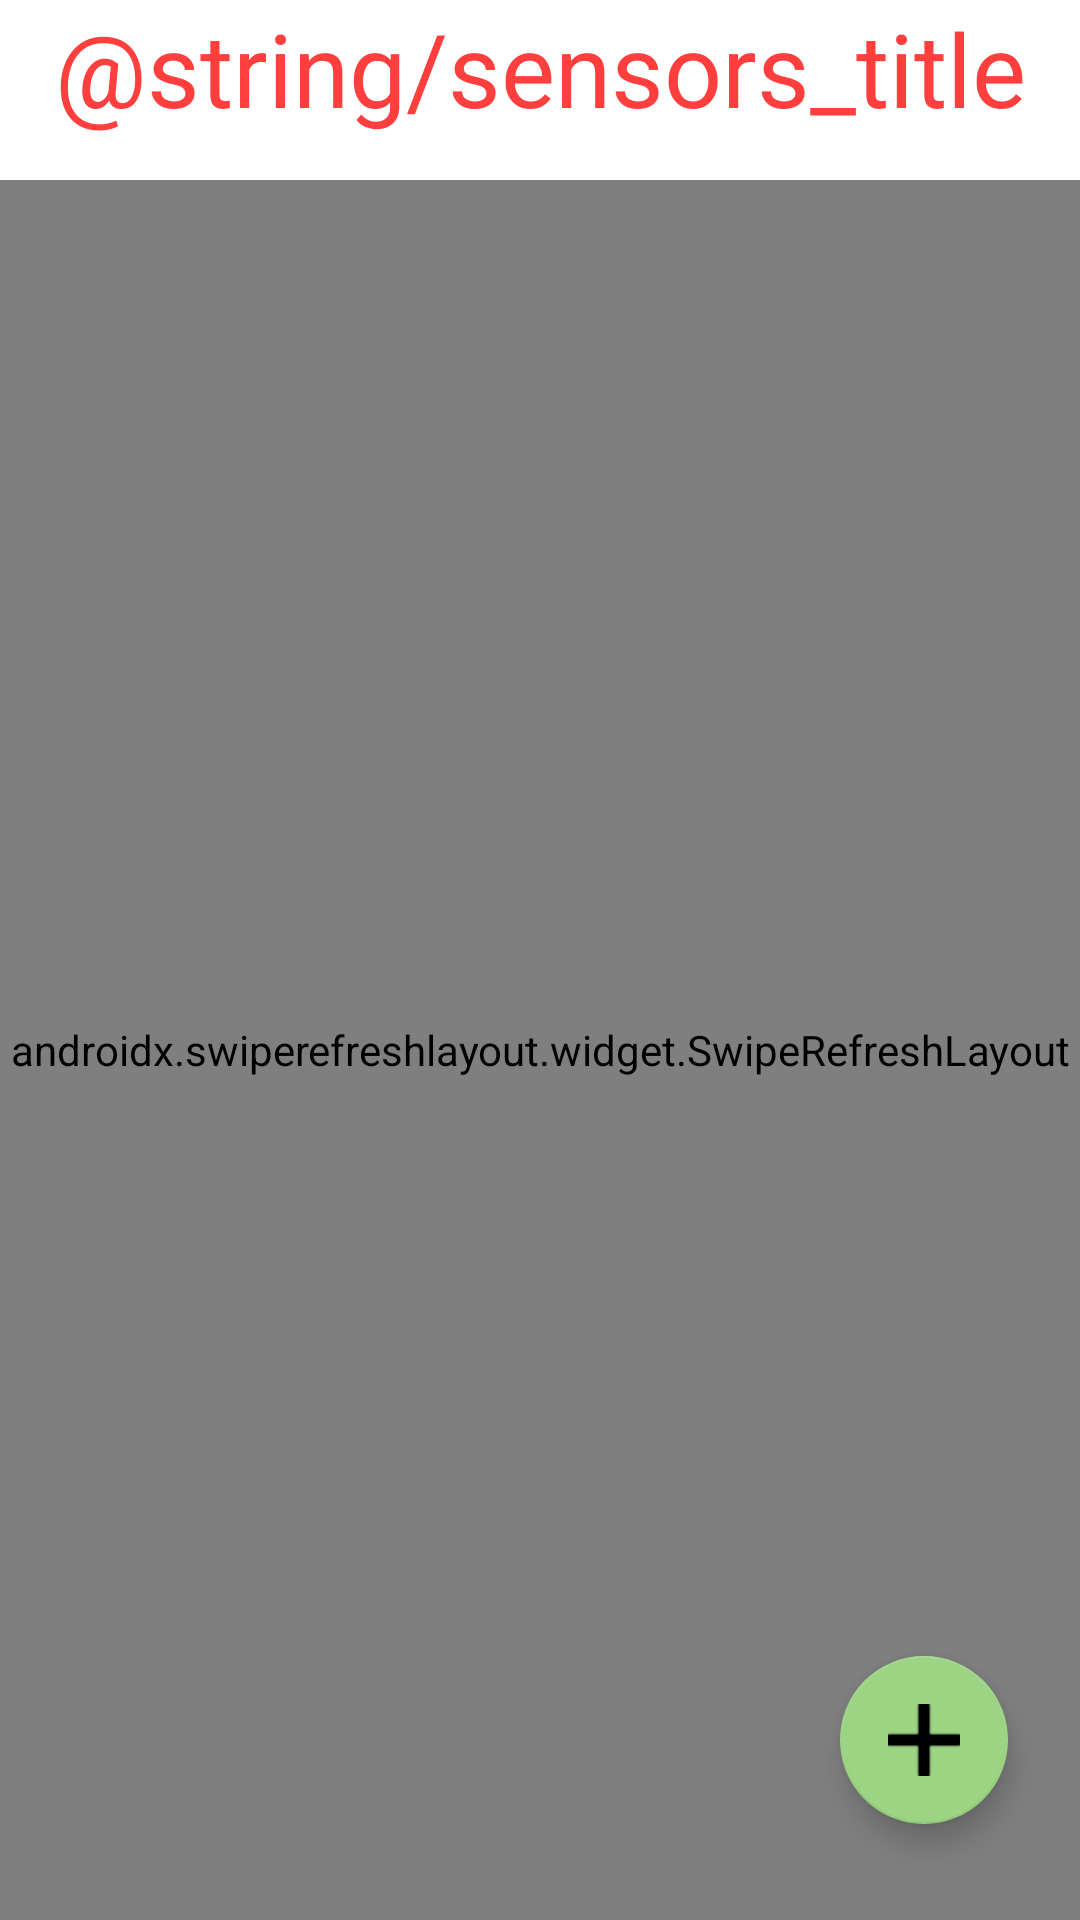

Icon click points for this 1080x1920 phone screenshot, format (x=x, y=y):
add: (x=924, y=1740)
